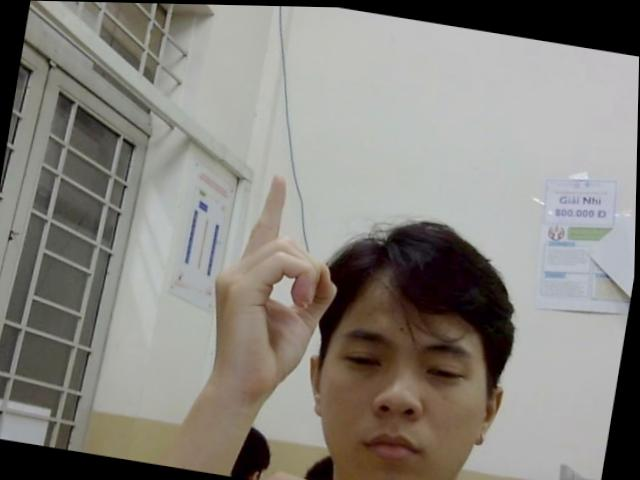D: (197, 164, 354, 408)
